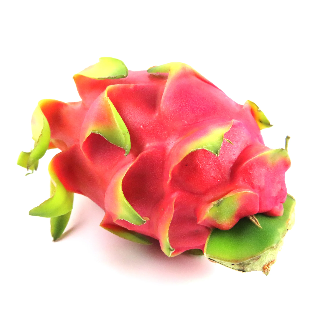thanh_long: (38, 66, 290, 270)
